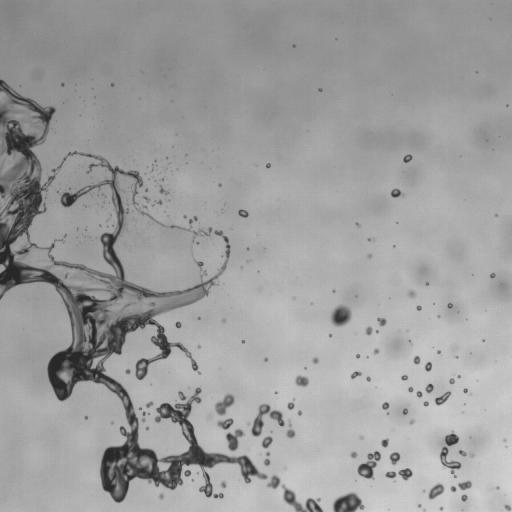droplet: (251, 404, 284, 436), (357, 451, 380, 479), (332, 492, 364, 511), (330, 304, 351, 327), (214, 394, 234, 415), (225, 429, 244, 451), (428, 483, 444, 499), (217, 417, 233, 429), (389, 452, 401, 464), (295, 375, 308, 386), (262, 436, 273, 448), (391, 188, 403, 197), (238, 209, 248, 217), (350, 371, 361, 378), (403, 154, 412, 162), (377, 318, 386, 326), (425, 384, 433, 393), (381, 438, 388, 447), (365, 326, 372, 334), (413, 356, 420, 364), (287, 401, 294, 409), (425, 362, 431, 371), (408, 290, 415, 297), (382, 402, 389, 409), (504, 504, 511, 511), (220, 480, 226, 488), (143, 196, 150, 202), (146, 401, 153, 407), (459, 450, 466, 456), (264, 458, 270, 465), (461, 494, 467, 501), (175, 321, 181, 327), (373, 348, 379, 354), (312, 357, 318, 363), (350, 452, 356, 458), (401, 375, 407, 380), (417, 391, 422, 397), (447, 303, 452, 308), (125, 369, 130, 374), (449, 378, 454, 383), (408, 387, 413, 392), (423, 401, 428, 406), (403, 408, 407, 414), (367, 254, 372, 258), (490, 273, 495, 277), (417, 305, 421, 310), (366, 376, 370, 381), (409, 420, 414, 424), (159, 493, 163, 498), (266, 163, 270, 167), (463, 388, 467, 392), (298, 410, 301, 415), (437, 350, 440, 354), (470, 453, 473, 457), (218, 183, 221, 186), (356, 223, 359, 226), (222, 319, 225, 322), (356, 354, 359, 357), (145, 426, 148, 429), (266, 452, 269, 455), (440, 507, 443, 510), (111, 83, 113, 86), (319, 88, 321, 91), (332, 290, 335, 292), (328, 334, 331, 336), (264, 358, 267, 360), (457, 375, 460, 377), (360, 436, 362, 439), (418, 504, 420, 507), (61, 83, 63, 85), (145, 189, 147, 191), (183, 215, 185, 217), (495, 214, 497, 216), (190, 246, 192, 248), (242, 341, 244, 343), (198, 345, 200, 347), (139, 407, 141, 409), (496, 486, 498, 488)
ligament: (0, 79, 265, 502), (267, 475, 323, 511), (440, 431, 461, 477), (385, 468, 412, 480), (450, 480, 471, 491), (435, 391, 451, 405), (286, 421, 295, 438), (159, 185, 168, 194), (152, 200, 162, 204), (0, 163, 2, 170)
